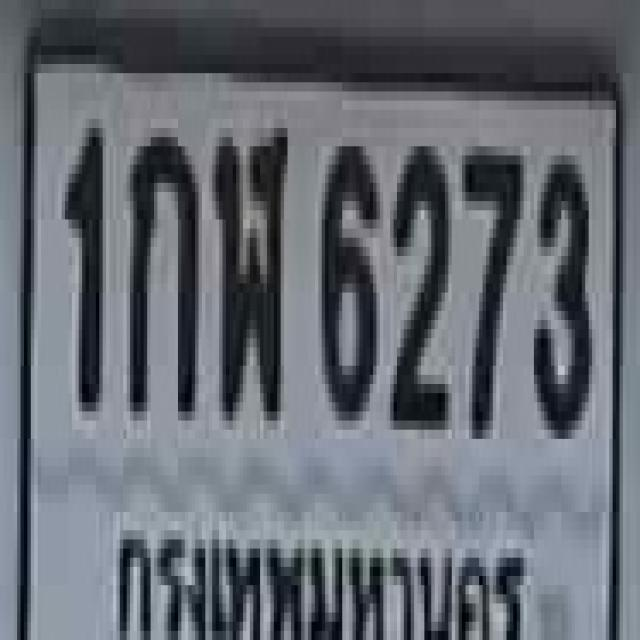1: (62, 119, 99, 402)
2: (387, 137, 445, 421)
3: (530, 146, 588, 430)
6: (318, 137, 373, 412)
7: (459, 137, 520, 430)
A01: (127, 128, 195, 411)
A42: (212, 119, 284, 411)
BKK: (106, 501, 531, 640)
